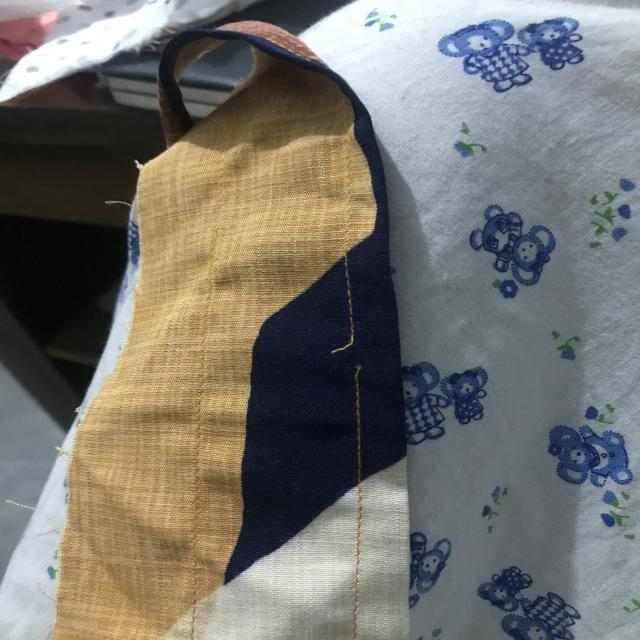broken: (323, 318, 377, 381)
good: (347, 394, 372, 470)
